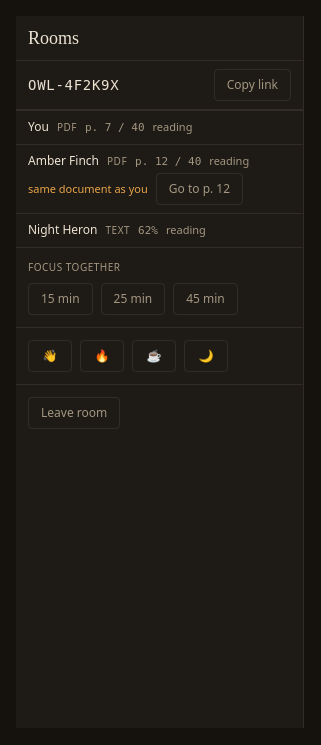
Test: RoomPanel same document, Go to and Back › drops the way back when I open another document
This screenshot has width=321, height=745.
Click the button "Go to p. 12" at (199, 189), box [156, 173, 243, 205]
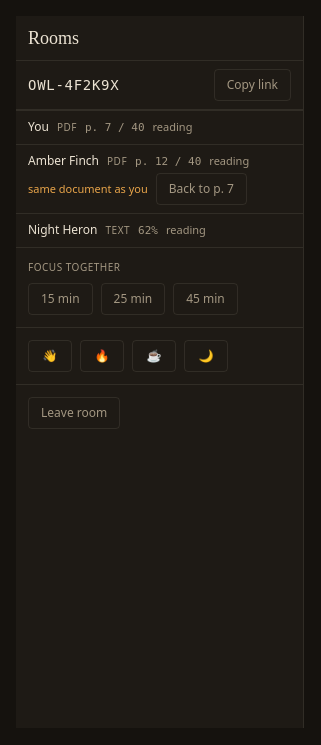
Check: the button "Back to p. 7" is shown, box [156, 173, 247, 205]
